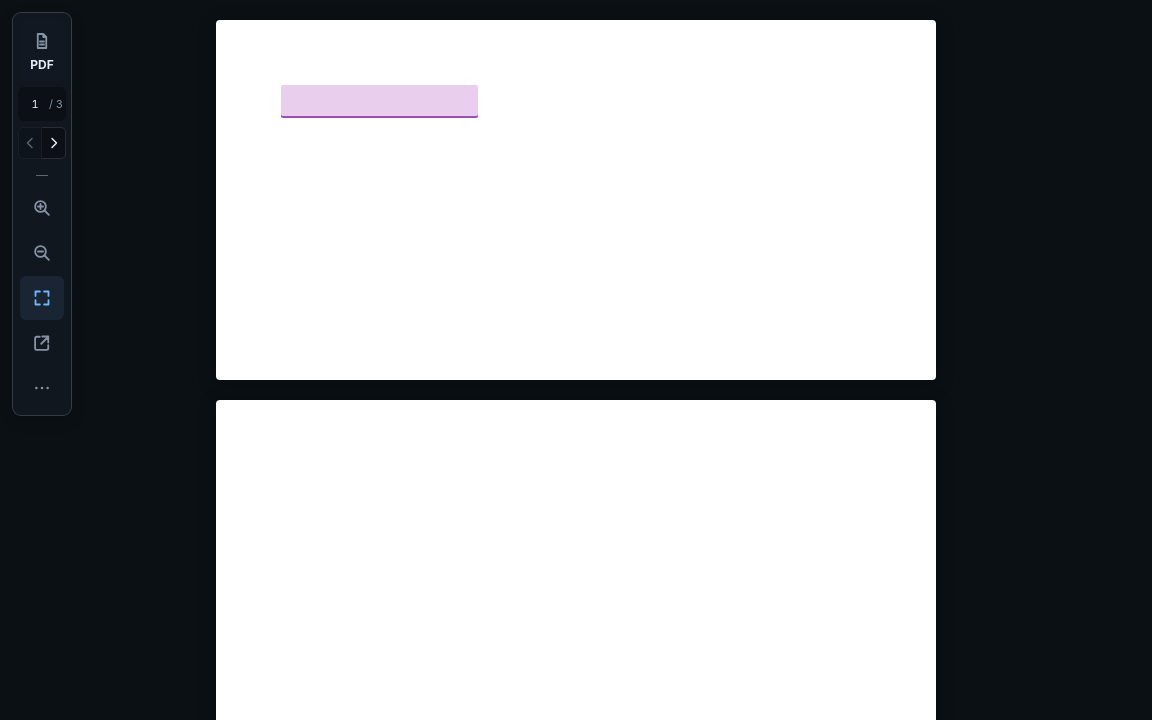
PdfReader annotation interactions › keeps the page, spread and manual zoom when more tools are dismissed and reopened
Click the button named "更多 PDF 工具" at (42, 388), box [20,366,64,410]
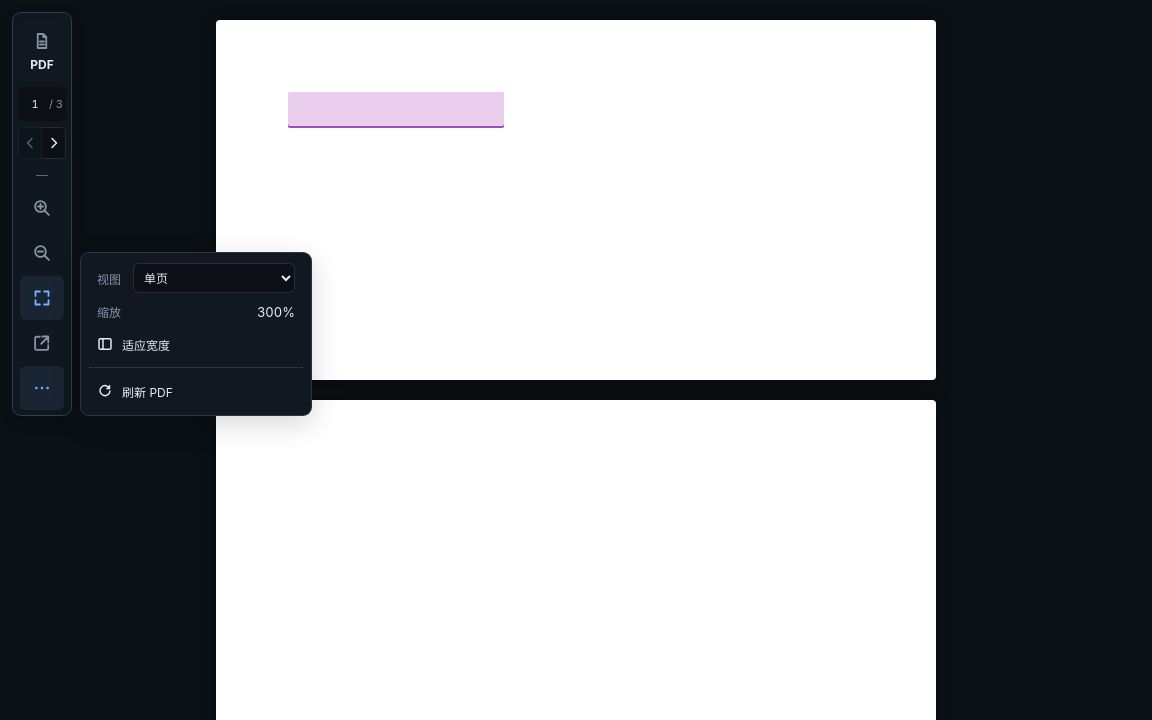
Select "双页并排" in the dropdown named "阅读布局" at (214, 278), box [133,263,295,293]
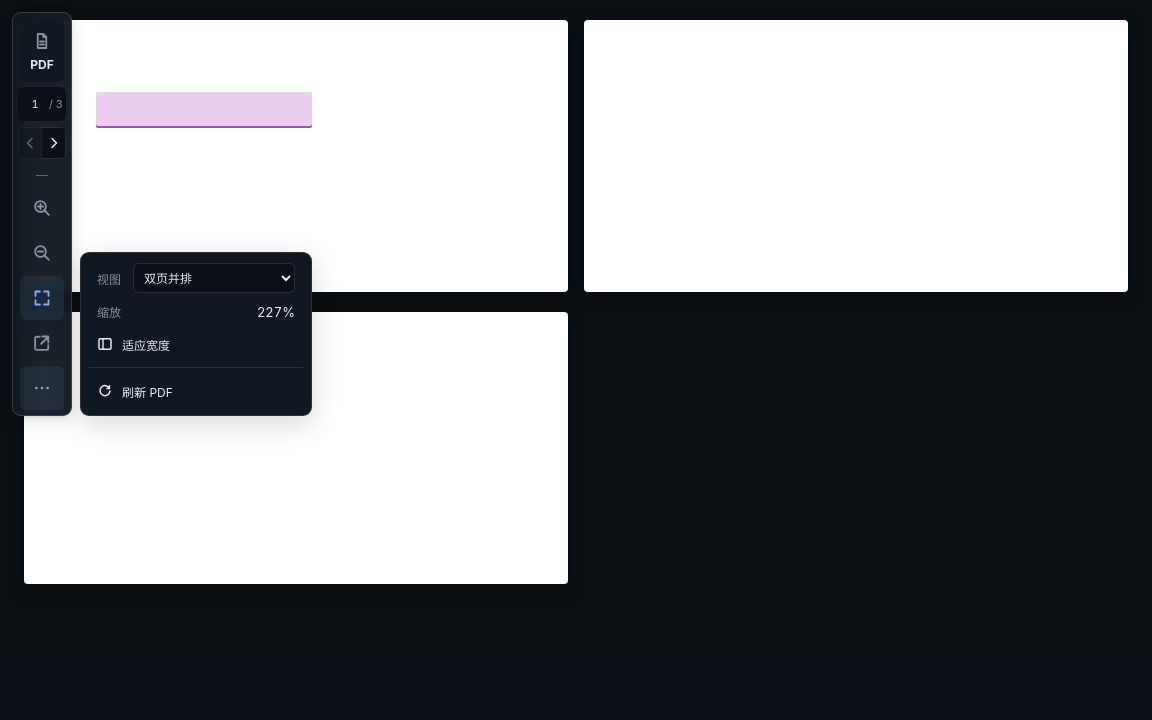
Replace the text in the number field named "PDF 页码" with "3" at (35, 104), box [21,88,49,120]
Click the button named "放大" at (42, 208), box [20,186,64,230]
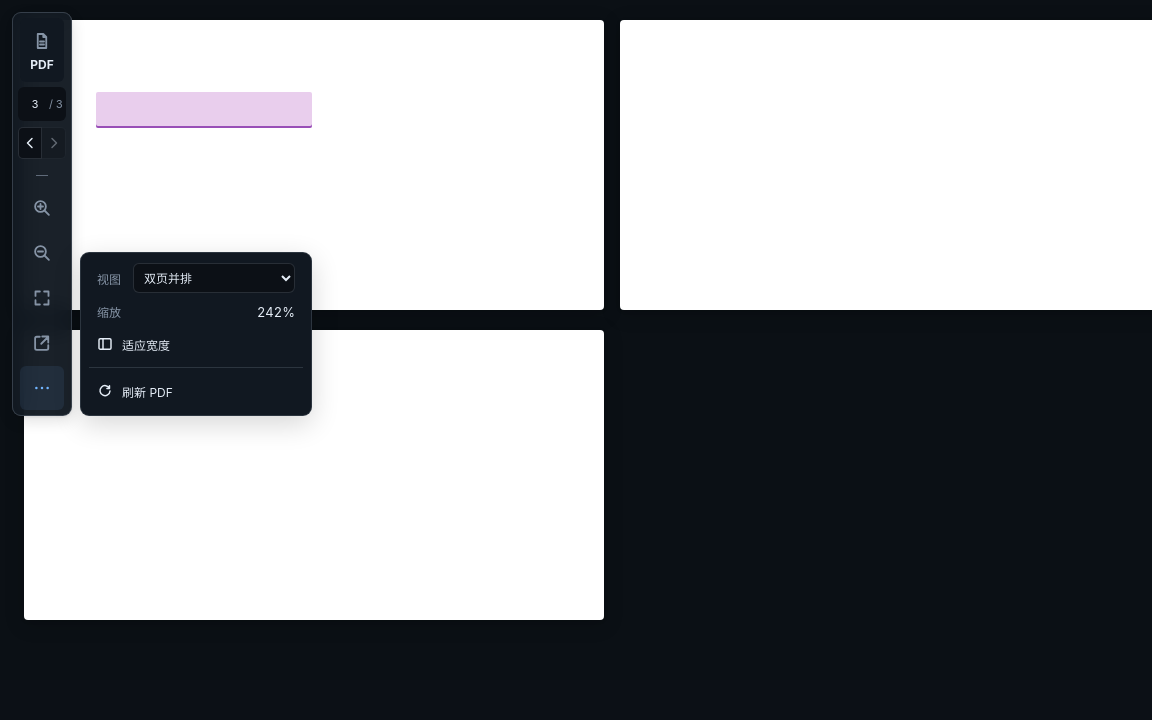
Press Escape in the button named "更多 PDF 工具", box [20,366,64,410]
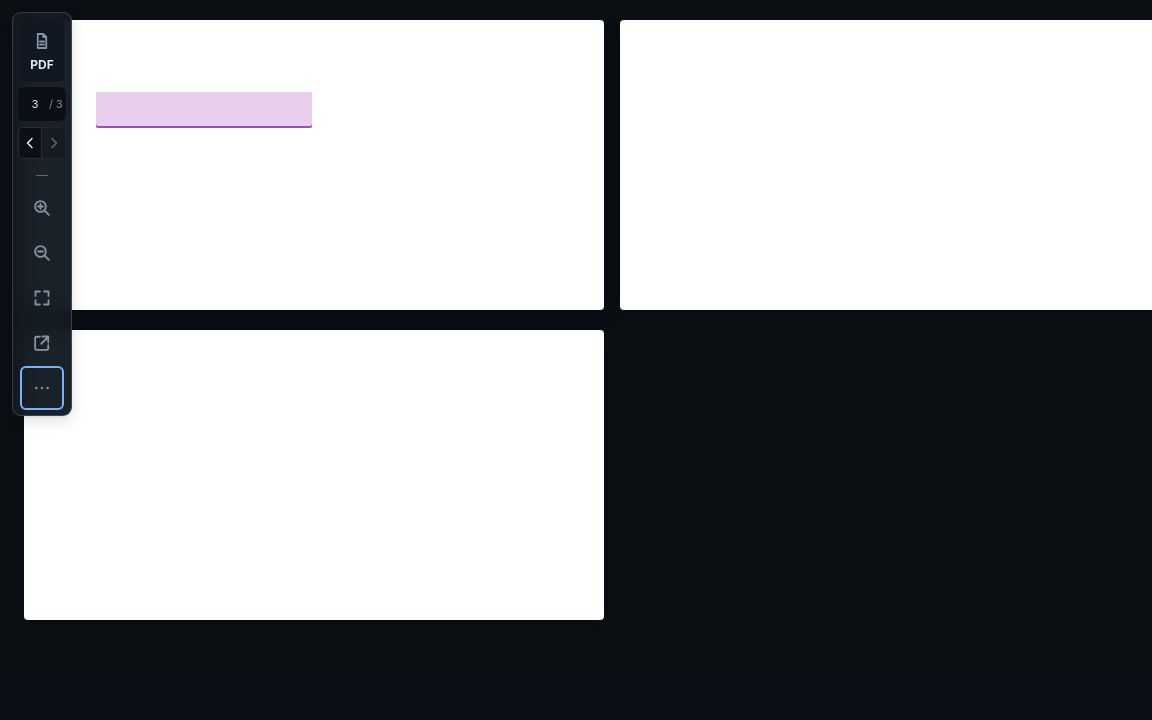
Now the button named "更多 PDF 工具" is collapsed
Now the dropdown labelled "阅读布局" is gone
Click the button named "更多 PDF 工具" at (42, 388), box [20,366,64,410]
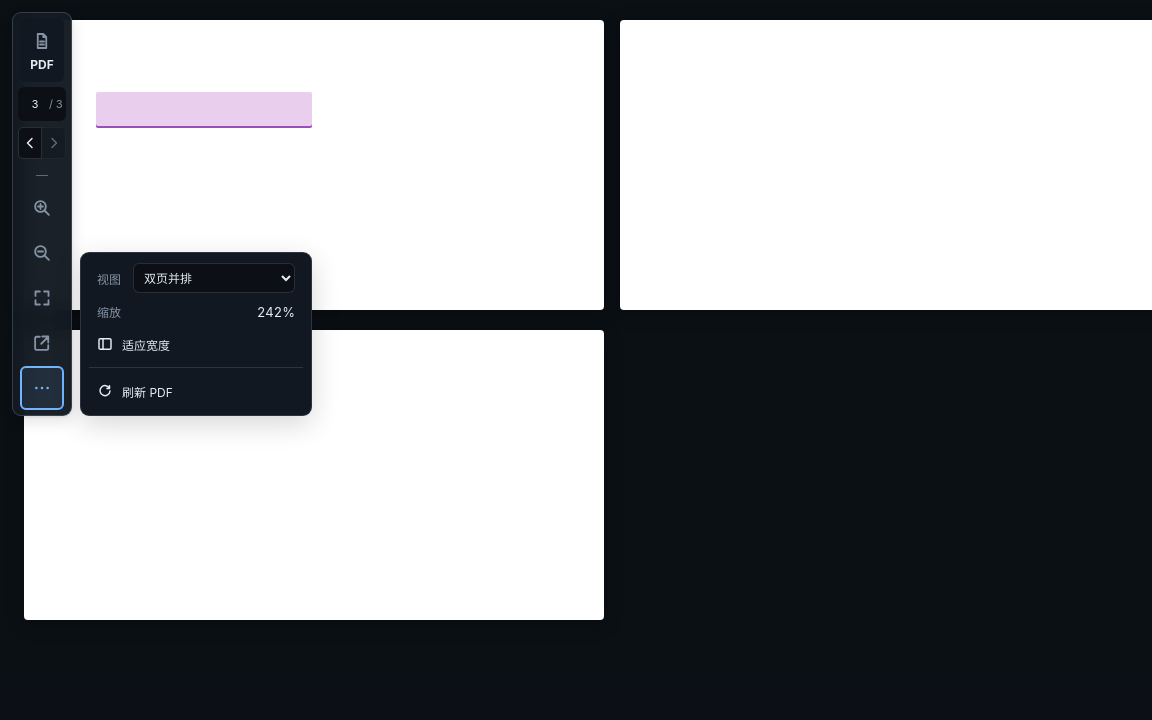
Click the button named "上一页" at (30, 143), box [18,127,42,159]
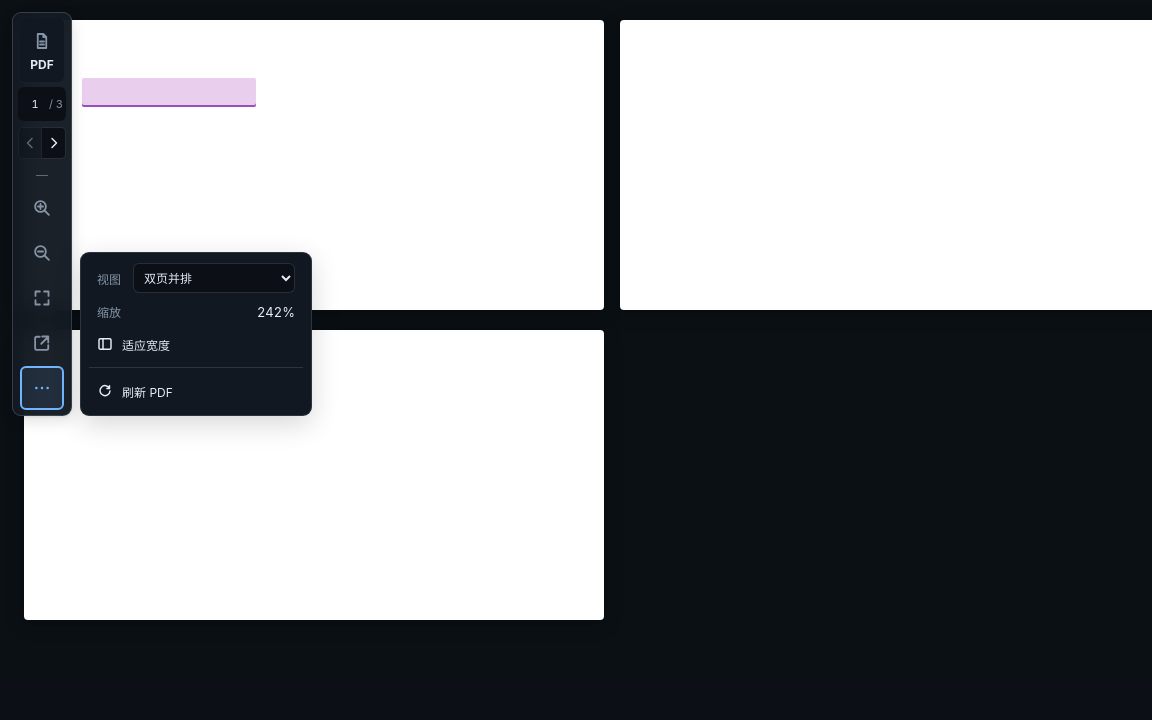
Now the number field named "PDF 页码" holds "1", box [21,88,49,120]
